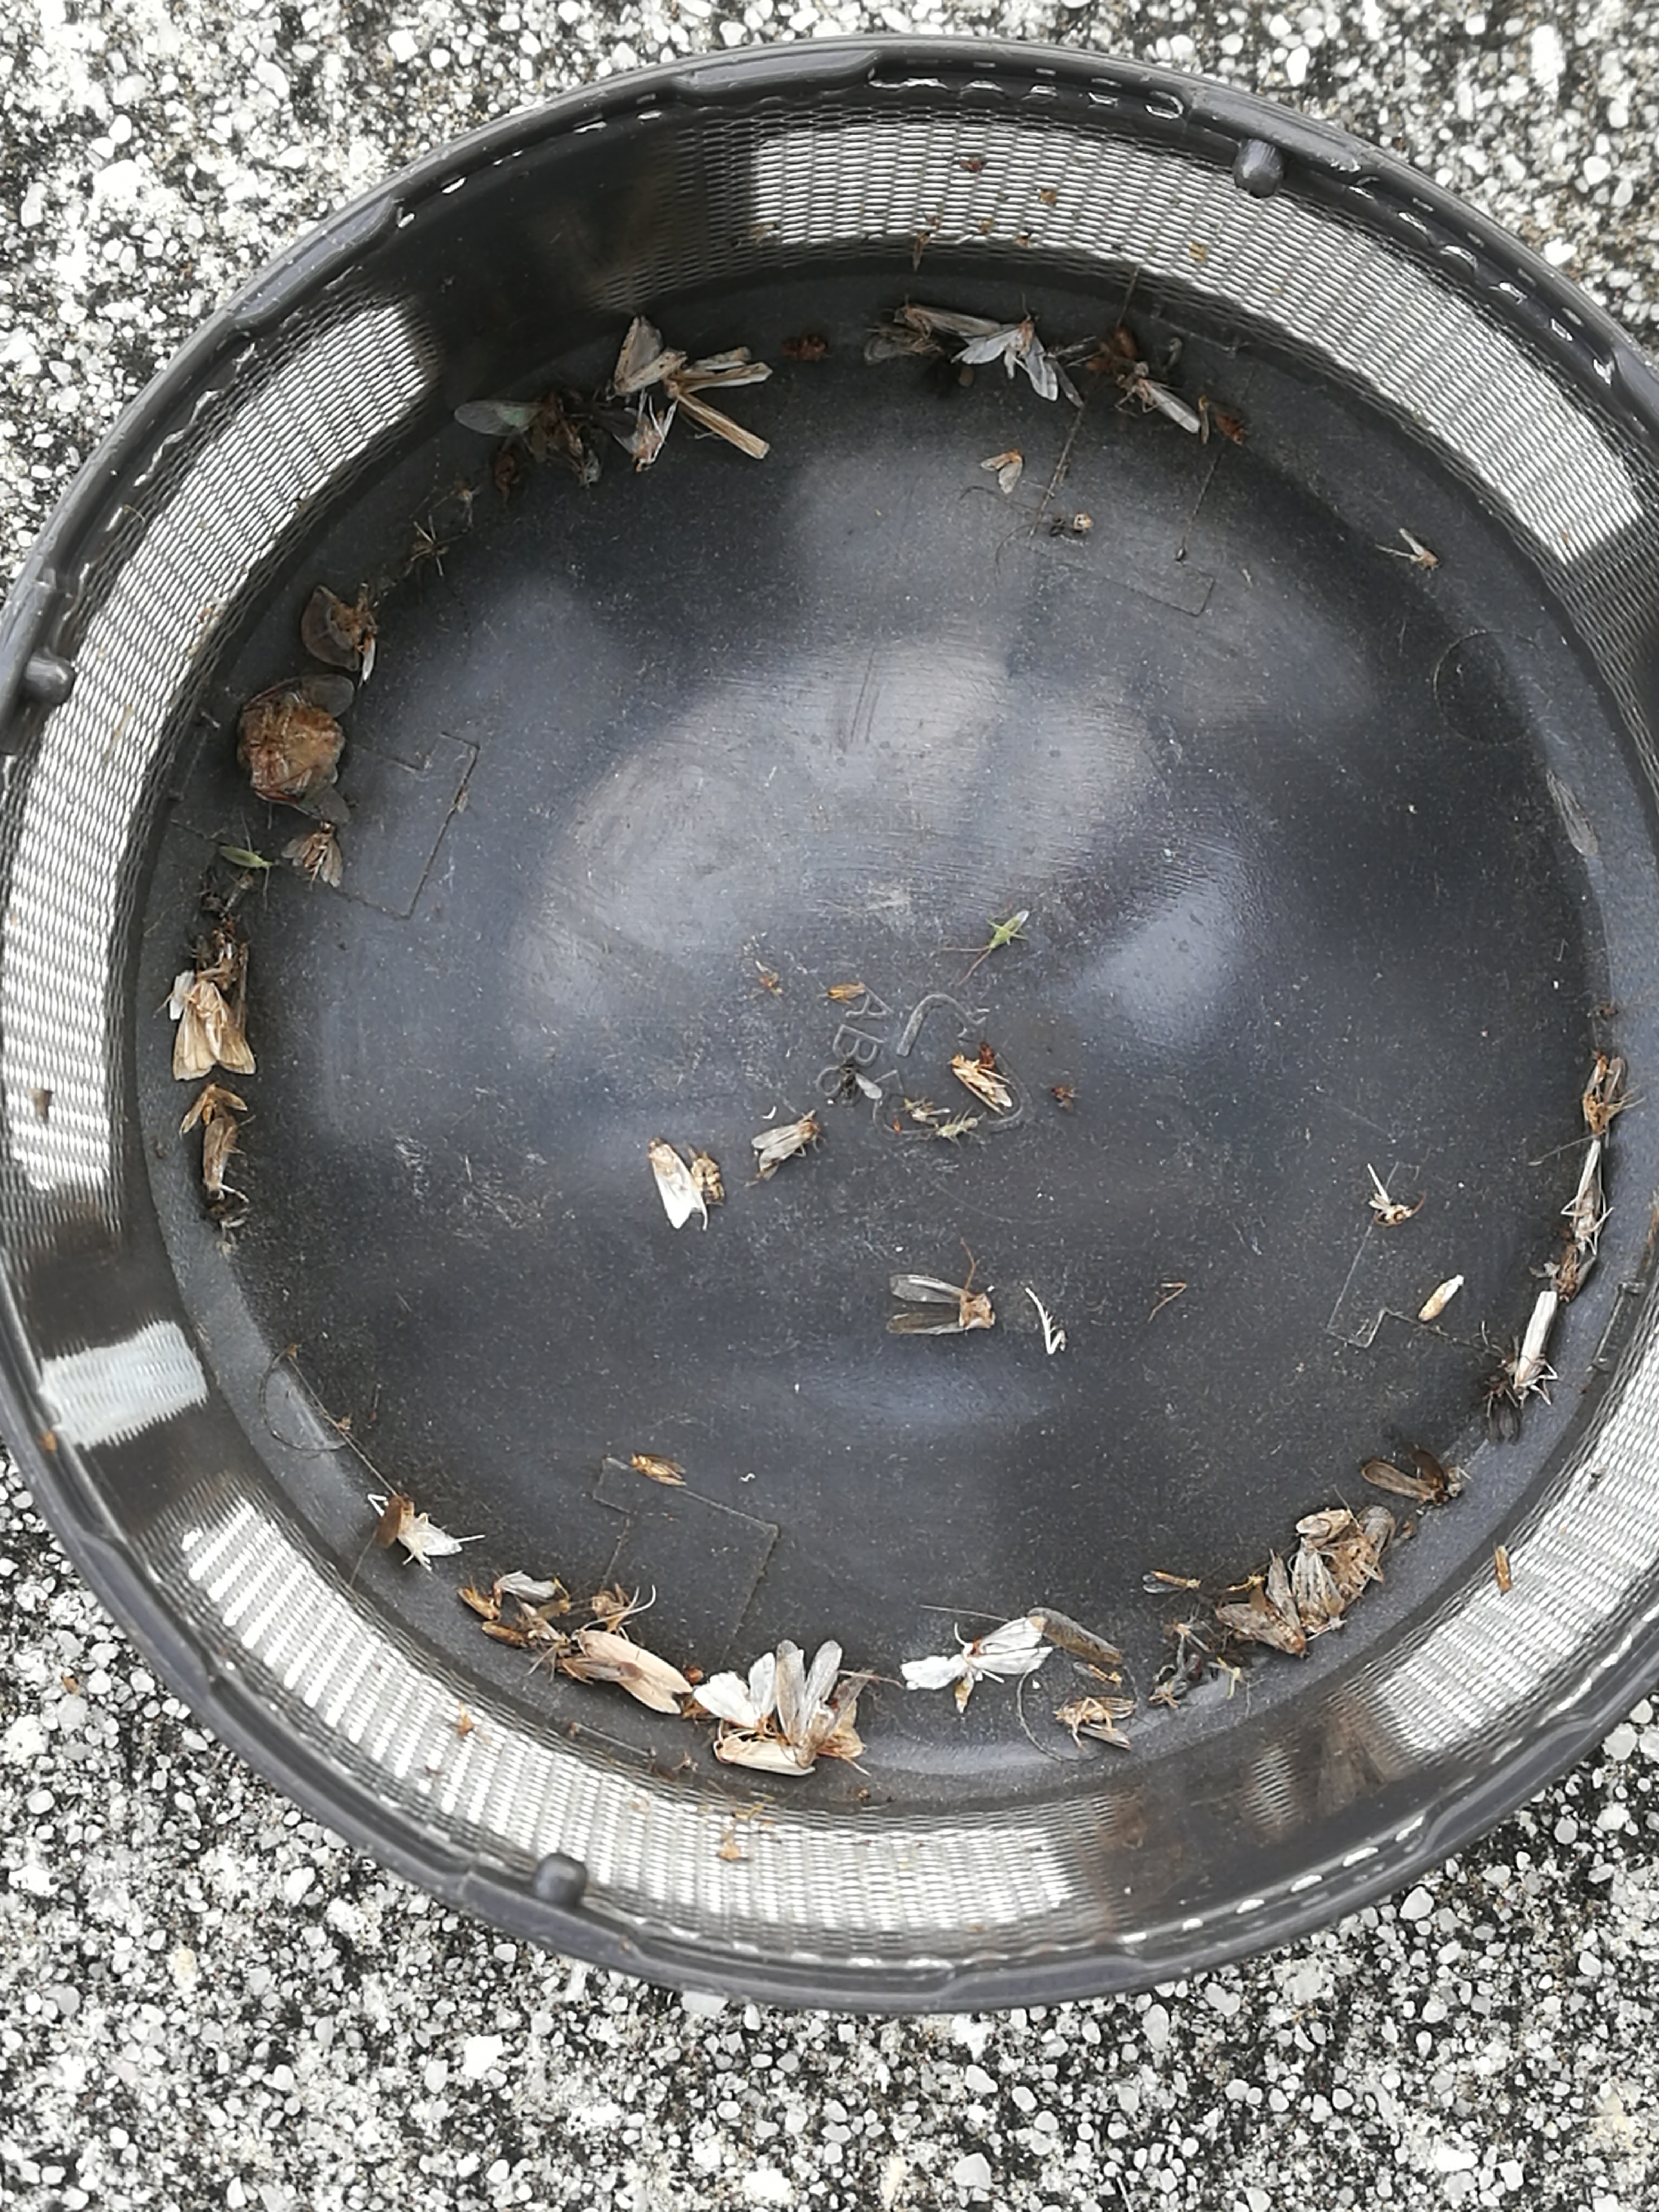beetle: (237, 698, 345, 805)
mosquito: (1119, 376, 1201, 434), (1513, 1292, 1556, 1400), (953, 1055, 1012, 1111), (1574, 1141, 1601, 1252), (897, 305, 1002, 334), (202, 1116, 235, 1200), (631, 1456, 687, 1486), (458, 1588, 500, 1622), (483, 1625, 526, 1649), (828, 984, 864, 1001)
moth: (901, 1618, 1051, 1712), (577, 1630, 694, 1712), (1216, 1559, 1305, 1656), (777, 1641, 843, 1764), (173, 981, 254, 1080), (453, 399, 582, 462), (962, 322, 1060, 401), (695, 1653, 775, 1726), (612, 319, 687, 394), (383, 1501, 462, 1569), (648, 1139, 702, 1228), (1291, 1538, 1345, 1618), (281, 820, 342, 887), (1058, 1696, 1134, 1749), (613, 406, 676, 463), (751, 1120, 819, 1172)
